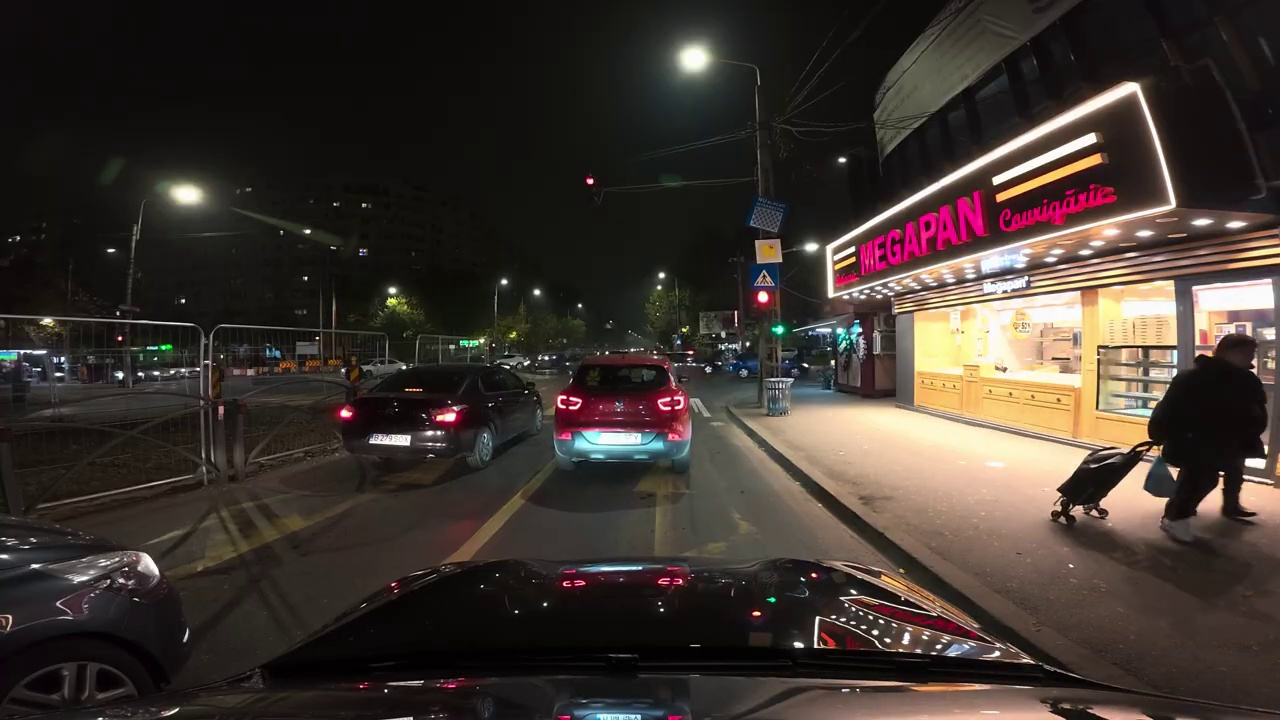acesa: (676, 43, 713, 76), (167, 181, 205, 209)
